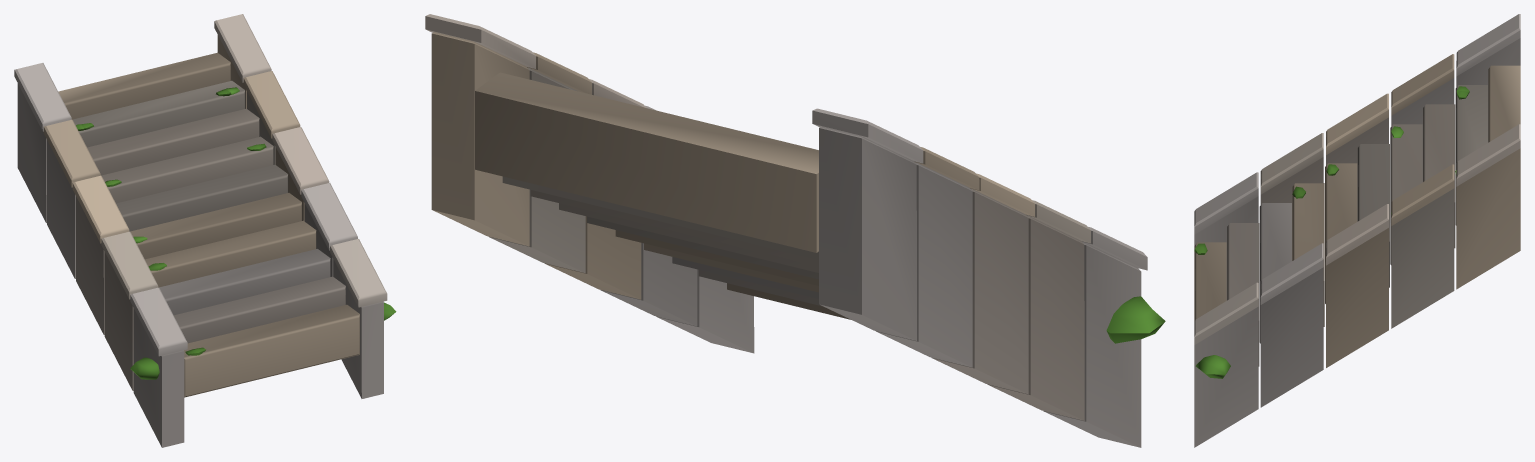
The model's file is shrine-stairs.glb.
3 renders of one model, left to right at view 1: azimuth 30°, elevation 25°; view 2: azimuth 150°, elevation 25°; view 3: azimuth 270°, elevation 25°, orthographic. The views are drawn at different scales.
Visible parts, largest first — view 1: Shrine stairs Plaster, Shrine stairs Leaf; view 2: Shrine stairs Plaster, Shrine stairs Leaf; view 3: Shrine stairs Plaster, Shrine stairs Leaf.
Boxes of the visible parts, <box> form: Shrine stairs Plaster: <box>14,14,387,447</box>; Shrine stairs Leaf: <box>76,87,396,379</box>; Shrine stairs Plaster: <box>425,14,1147,447</box>; Shrine stairs Leaf: <box>1106,296,1165,343</box>; Shrine stairs Plaster: <box>1194,14,1520,447</box>; Shrine stairs Leaf: <box>1194,86,1469,378</box>.
Bounding box in the file's own units: 4.66 × 4.72 × 4.5.
